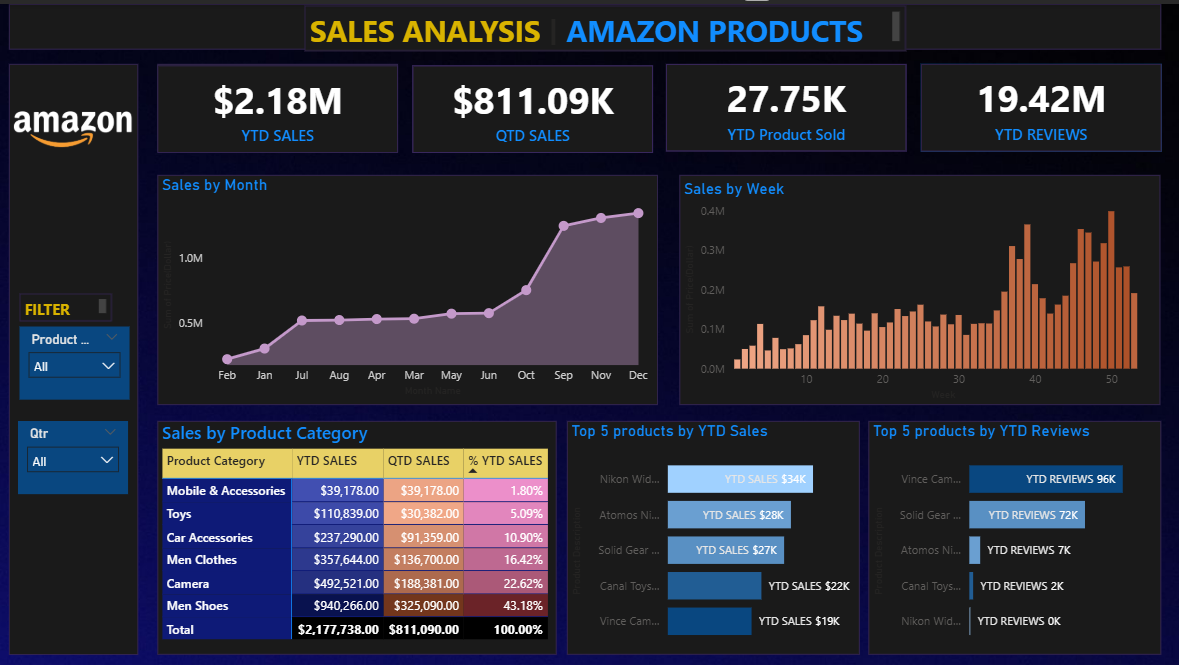

Layout of this report page (visuals, bound fields, positions):
{"tool":"powerbi","page":{"name":"Page 1","canvas":[1280,720],"ordinal":0},"visuals":[{"type":"shape","box":[170.1,64.3,260.8,94.5],"z":0,"group":"g1"},{"type":"shape","box":[9.4,0,1249.1,49.1],"z":0},{"type":"textbox","box":[315.6,0,652,49.1],"z":1000},{"type":"card","fields":{"Values":["Amazon_Data.YTD SALES"]},"box":[170.1,66.2,260.8,94.5],"z":1000,"group":"g1"},{"type":"shape","box":[9.4,64.3,139.8,640.6],"z":2000},{"type":"shape","box":[446,66.2,260.8,94.5],"z":3000,"group":"g1"},{"type":"shape","box":[170.1,185.2,542.4,249.5],"z":3000},{"type":"shape","box":[721.9,64.3,260.8,94.5],"z":4000,"group":"g1"},{"type":"areaChart","title":"Sales by Month","fields":{"Category":["Date Table.Month Name"],"Y":["Amazon_Data.Price(Dollar)"]},"box":[170.1,185.2,542.4,243.8],"z":4000},{"type":"shape","box":[997.8,64.3,260.8,94.5],"z":5000,"group":"g1"},{"type":"shape","box":[737,185.2,521.6,249.5],"z":5000},{"type":"card","fields":{"Values":["Amazon_Data.QTD SALES"]},"box":[446,66.2,260.8,94.5],"z":6000,"group":"g1"},{"type":"group","id":"g1","title":"Group 1","box":[170.1,64.3,1088.5,96.4],"z":6000},{"type":"card","fields":{"Values":["Amazon_Data.YTD Product Sold"]},"box":[721.9,64.3,260.8,94.5],"z":7000,"group":"g1"},{"type":"columnChart","title":"Sales by Week","fields":{"Category":["Date Table.WEEK"],"Y":["Amazon_Data.Price(Dollar)"]},"box":[737,190.9,521.6,243.8],"z":7000},{"type":"shape","box":[170.1,451.7,432.8,253.2],"z":7001},{"type":"pivotTable","title":"Sales by Product Category","fields":{"Rows":["Amazon_Data.Product Category"],"Values":["Amazon_Data.YTD SALES1","Amazon_Data.QTD SALES","Amazon_Data.YTD SALES"]},"box":[170.1,451.7,432.8,253.2],"z":7002},{"type":"shape","box":[614.2,451.7,317.5,253.2],"z":7003},{"type":"shape","box":[941.1,451.7,317.5,253.2],"z":7004},{"type":"clusteredBarChart","title":"Top 5 products by YTD Sales","fields":{"Category":["Amazon_Data.Product Description"],"Y":["Amazon_Data.YTD SALES"]},"box":[614.2,451.7,317.5,253.2],"z":7005},{"type":"clusteredBarChart","title":"Top 5 products by YTD Reviews","fields":{"Category":["Amazon_Data.Product Description"],"Y":["Amazon_Data.YTD REVIEWS"]},"box":[941.1,451.7,317.5,253.2],"z":7006},{"type":"slicer","fields":{"Values":["Amazon_Data.Product Category"]},"box":[20.8,349.6,119.1,79.4],"z":7007},{"type":"slicer","fields":{"Values":["Date Table.Qtr"]},"box":[18.9,451.7,119.1,79.4],"z":7008},{"type":"image","box":[9.4,66.1,139.8,145.5],"z":7009},{"type":"textbox","box":[20.8,313.7,100.2,30.2],"z":7010},{"type":"card","fields":{"Values":["Amazon_Data.YTD REVIEWS"]},"box":[997.8,64.3,260.8,94.5],"z":8000,"group":"g1"}]}

Visuals, with their boxes in screenshot pixels (x1, y1, x2, y2), scaled from the page's 1280x720 canvas onto the 1179x666 screenshot:
shape: box(157, 59, 397, 147)
shape: box(9, 0, 1159, 45)
textbox: box(291, 0, 891, 45)
card - Amazon_Data.YTD SALES: box(157, 61, 397, 149)
shape: box(9, 59, 137, 652)
shape: box(411, 61, 651, 149)
shape: box(157, 171, 656, 402)
shape: box(665, 59, 905, 147)
"Sales by Month" areaChart: box(157, 171, 656, 397)
shape: box(919, 59, 1159, 147)
shape: box(679, 171, 1159, 402)
card - Amazon_Data.QTD SALES: box(411, 61, 651, 149)
"Group 1" group: box(157, 59, 1159, 149)
card - Amazon_Data.YTD Product Sold: box(665, 59, 905, 147)
"Sales by Week" columnChart: box(679, 177, 1159, 402)
shape: box(157, 418, 555, 652)
"Sales by Product Category" pivotTable: box(157, 418, 555, 652)
shape: box(566, 418, 858, 652)
shape: box(867, 418, 1159, 652)
"Top 5 products by YTD Sales" clusteredBarChart: box(566, 418, 858, 652)
"Top 5 products by YTD Reviews" clusteredBarChart: box(867, 418, 1159, 652)
slicer - Amazon_Data.Product Category: box(19, 323, 129, 397)
slicer - Date Table.Qtr: box(17, 418, 127, 491)
image: box(9, 61, 137, 196)
textbox: box(19, 290, 111, 318)
card - Amazon_Data.YTD REVIEWS: box(919, 59, 1159, 147)
